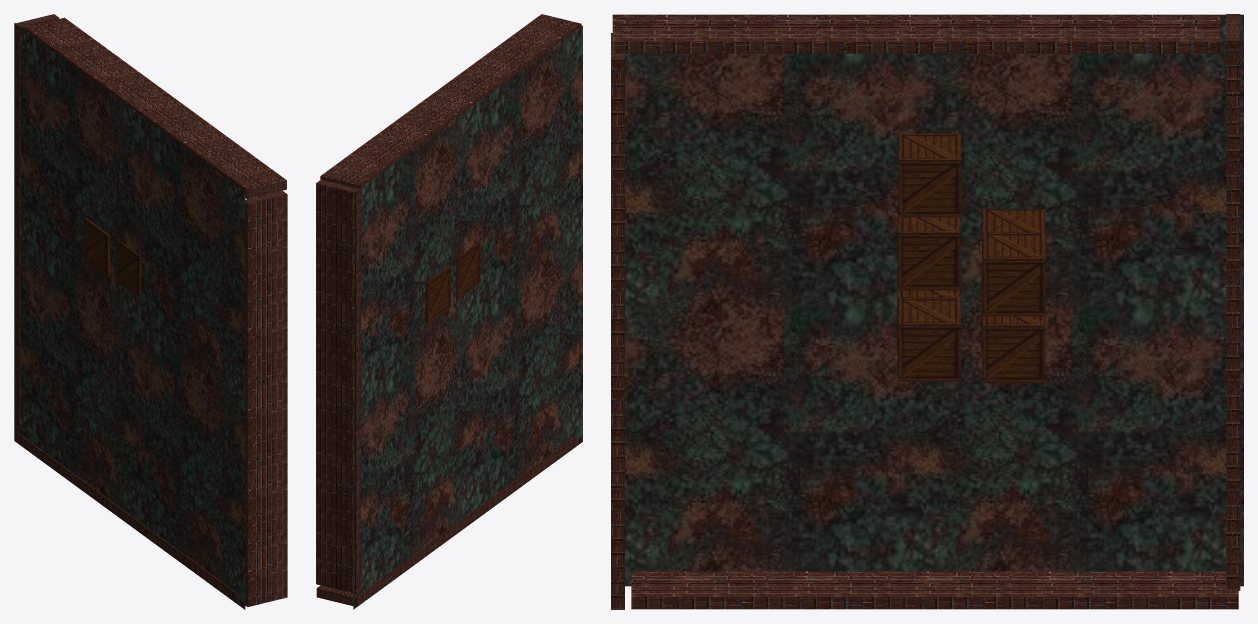
File: simple-environment.obj
3 views of the same model, side by side, from view 1: azimuth 30°, elevation 25°; view 2: azimuth 150°, elevation 25°; view 3: azimuth 270°, elevation 25° (orthographic). The views are drawn at different scales.
Visible parts, largest first — view 1: floor_Plane, Cube.011_Cube.015, Cube.002_Cube.012, Cube.010_Cube.014, Cube.003_Cube.013, Cube.005_Cube.006, Cube.001_Cube.002; view 2: floor_Plane, Cube.010_Cube.014, Cube.002_Cube.012, Cube.003_Cube.013, Cube.005_Cube.006, Cube.001_Cube.002; view 3: floor_Plane, Cube.002_Cube.012, Cube.003_Cube.013, Cube.010_Cube.014, Cube.011_Cube.015, Cube.008_Cube.009, Cube.006_Cube.007, Cube.009_Cube.010, Cube.001_Cube.002, Cube.007_Cube.008, Cube.005_Cube.006.
Part boxes in pixels (left/top/right/bottom): floor_Plane: left=14, top=22, right=245, bottom=609; Cube.011_Cube.015: left=245, top=191, right=287, bottom=606; Cube.002_Cube.012: left=24, top=17, right=286, bottom=199; Cube.010_Cube.014: left=14, top=14, right=59, bottom=430; Cube.003_Cube.013: left=15, top=431, right=238, bottom=603; Cube.005_Cube.006: left=84, top=218, right=110, bottom=277; Cube.001_Cube.002: left=116, top=239, right=140, bottom=298; floor_Plane: left=353, top=25, right=582, bottom=609; Cube.010_Cube.014: left=316, top=179, right=360, bottom=593; Cube.002_Cube.012: left=320, top=14, right=581, bottom=188; Cube.003_Cube.013: left=316, top=435, right=577, bottom=606; Cube.005_Cube.006: left=425, top=265, right=450, bottom=324; Cube.001_Cube.002: left=456, top=241, right=480, bottom=299; floor_Plane: left=625, top=14, right=1243, bottom=586; Cube.002_Cube.012: left=612, top=14, right=1219, bottom=53; Cube.003_Cube.013: left=631, top=571, right=1238, bottom=609; Cube.010_Cube.014: left=1226, top=14, right=1240, bottom=590; Cube.011_Cube.015: left=611, top=33, right=624, bottom=609; Cube.008_Cube.009: left=898, top=133, right=961, bottom=217; Cube.006_Cube.007: left=982, top=232, right=1045, bottom=316; Cube.009_Cube.010: left=898, top=298, right=960, bottom=381; Cube.001_Cube.002: left=897, top=207, right=960, bottom=290; Cube.007_Cube.008: left=982, top=299, right=1045, bottom=382; Cube.005_Cube.006: left=982, top=209, right=1044, bottom=291.
Bounding box in the file's own units: 4.28 × 20.05 × 20.08.
